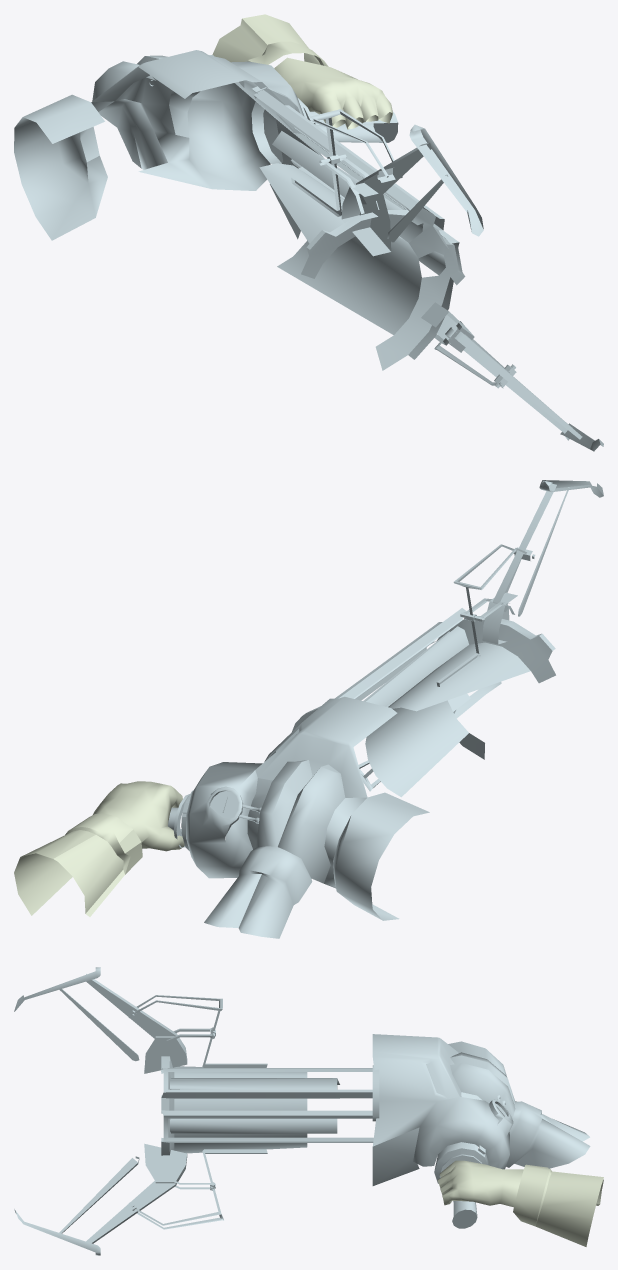
The model's file is gravgun.fbx.
3 views of the same model, one above another, from view 1: azimuth 30°, elevation 25°; view 2: azimuth 150°, elevation 25°; view 3: azimuth 270°, elevation 25° (orthographic). The views are drawn at different scales.
Visible parts, largest first — view 1: Physcannon_reference.001; view 2: Physcannon_reference.001; view 3: Physcannon_reference.001.
Part boxes in pixels (x1,y1,x2,y2): Physcannon_reference.001: (14,14,603,451); Physcannon_reference.001: (14,480,603,938); Physcannon_reference.001: (14,967,603,1255).
Size of the model in its own units: 2187 by 2003 by 4494.
